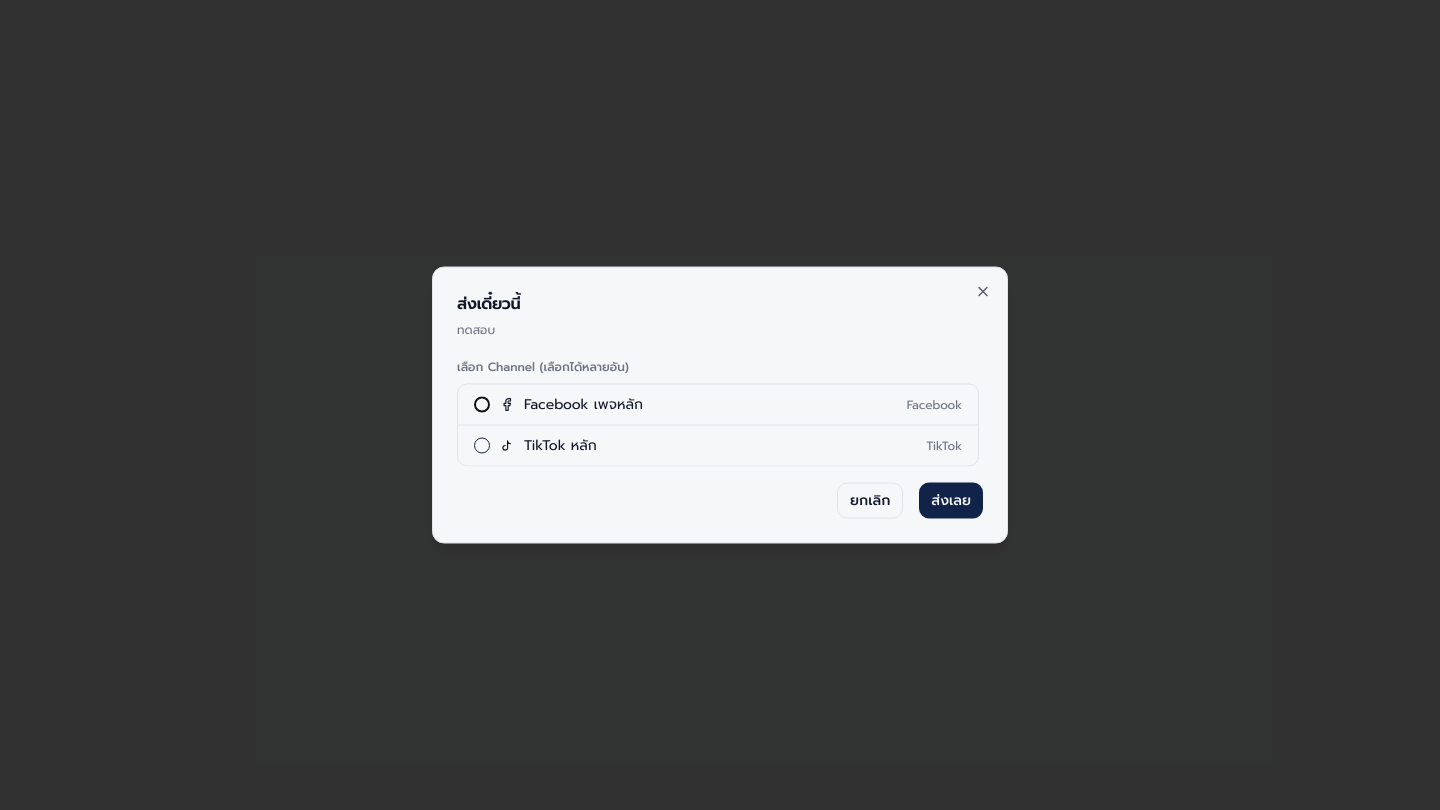
Test case: SchedulePublishDialog — ตัวอย่างข้อความโพสต์แบบอ่านอย่างเดียว › 2 platform ที่มีข้อความต่างกัน → ตัวอย่างต่างกัน ตัดคำกำกับทั้งคู่ (รวม facebook) และมีหัวข้อบรรทัดแรก
Click the checkbox next to "Facebook เพจหลัก".
click(482, 404)  # box [474,396,490,412]
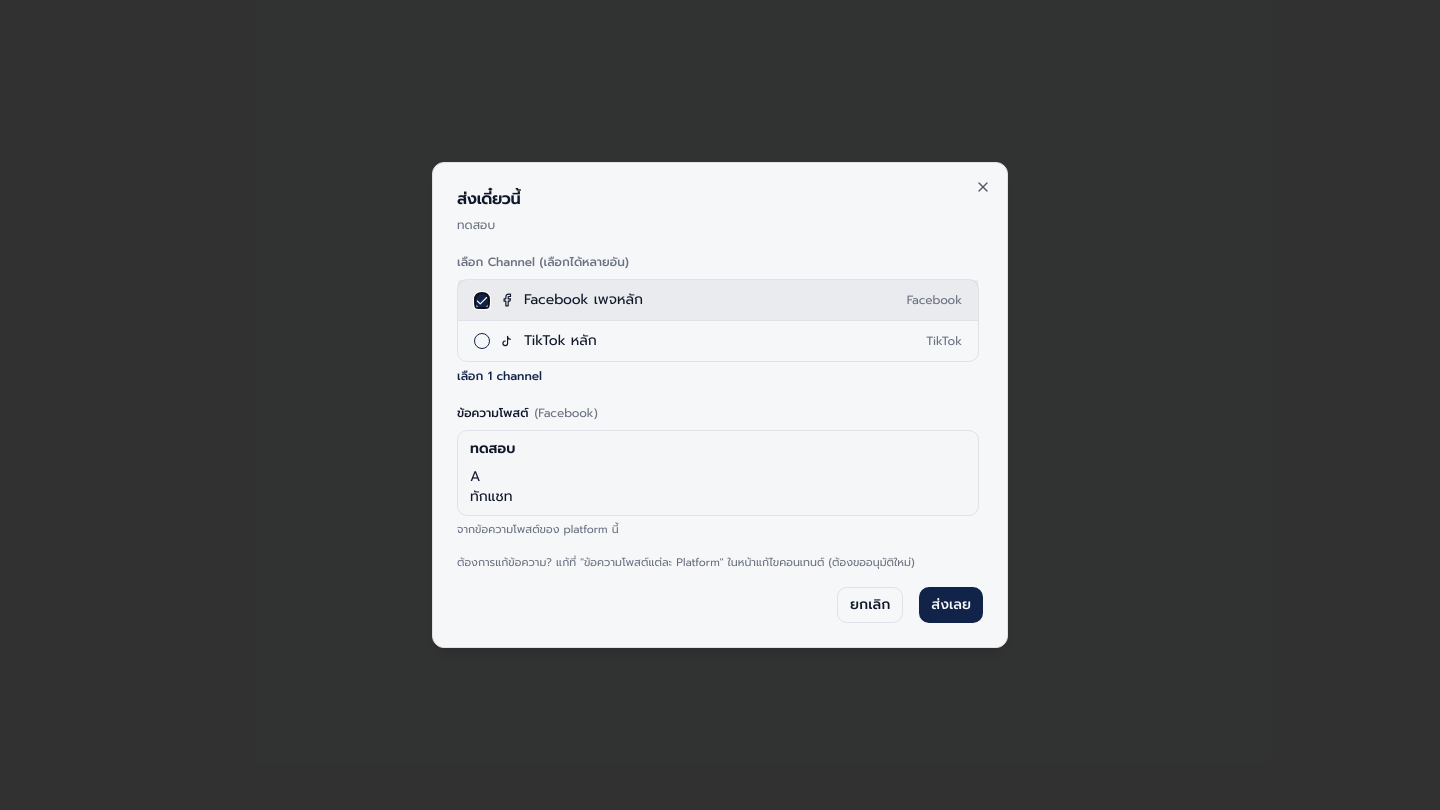
Click the checkbox next to "TikTok หลัก".
click(482, 341)  # box [474,333,490,349]
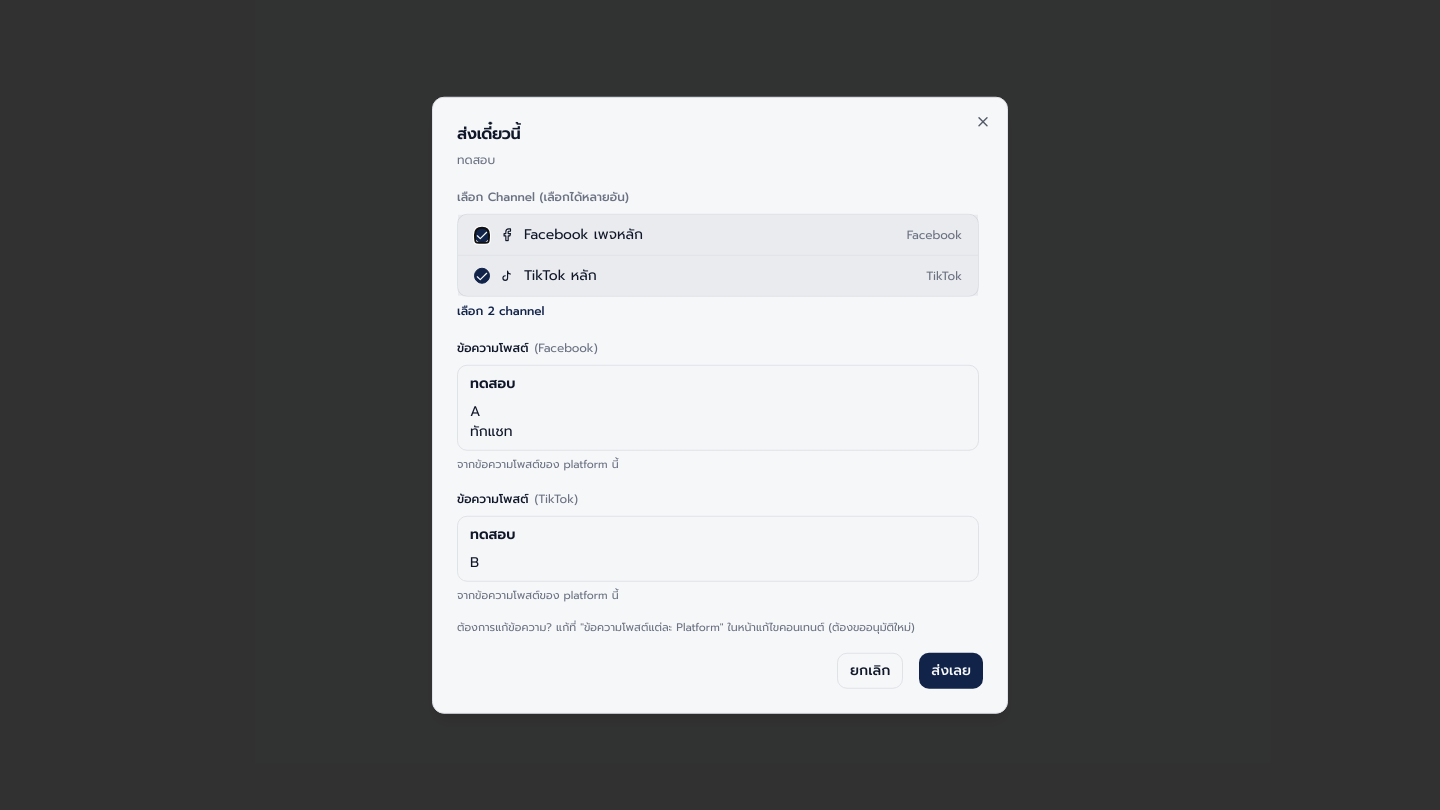
Now the element with test id "publish-preview-facebook" shows "ทดสอบ", box [470,373,515,394]
Now the element with test id "publish-preview-facebook" shows "ข้อความโพสต์(Facebook)", box [457,335,979,473]
Now the element with test id "publish-preview-tiktok" shows "B", box [470,551,479,572]
